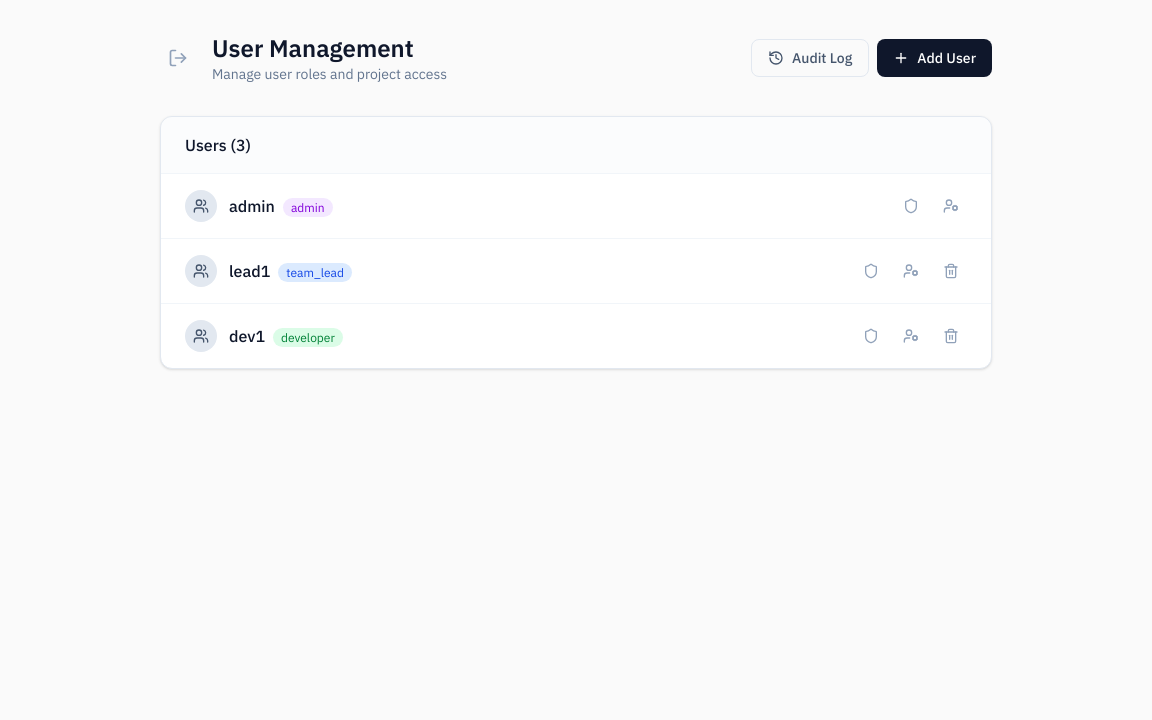
Test: UserManagementPage › opens role change modal on shield click
This screenshot has width=1152, height=720.
Expected: the text "lead1" is shown, [229,261,270,281]
Click the 1st button titled "Change Role" at {"x": 911, "y": 206}, box [895,190,927,222]
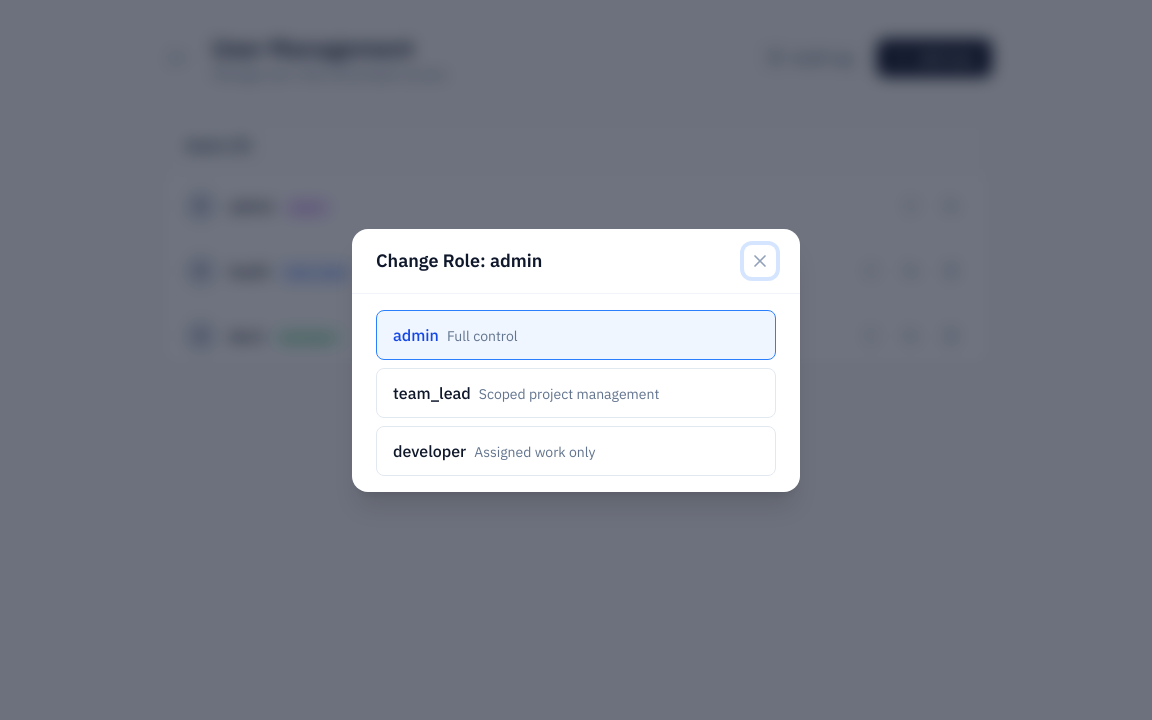
Expected: the heading "Change Role: admin" is shown, [376,246,542,274]
